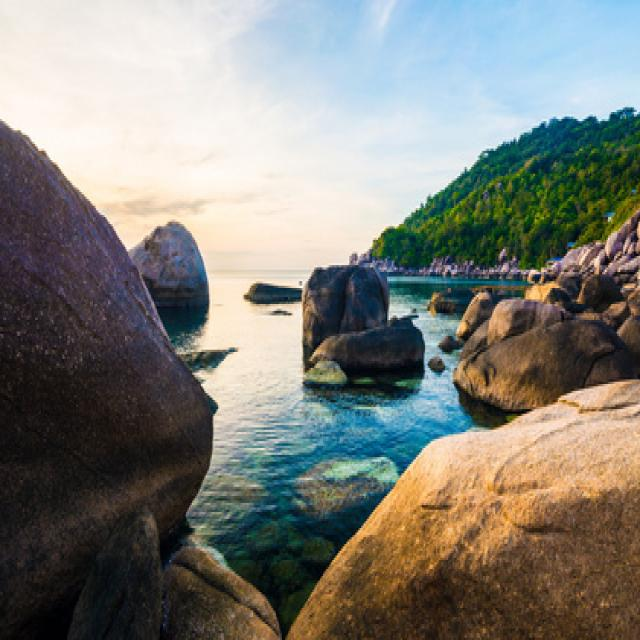island: (358, 89, 640, 281)
